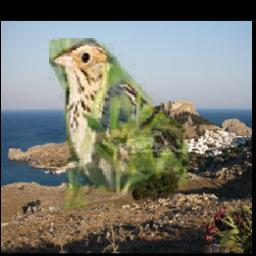Sparrow: (49, 38, 188, 209)
